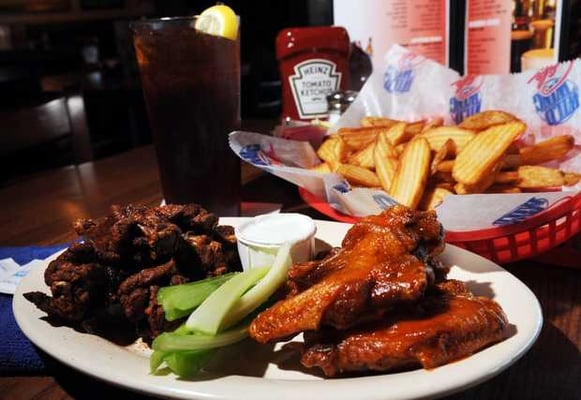pizza: (130, 17, 243, 217), (235, 212, 318, 271)
soup: (246, 204, 517, 377)
